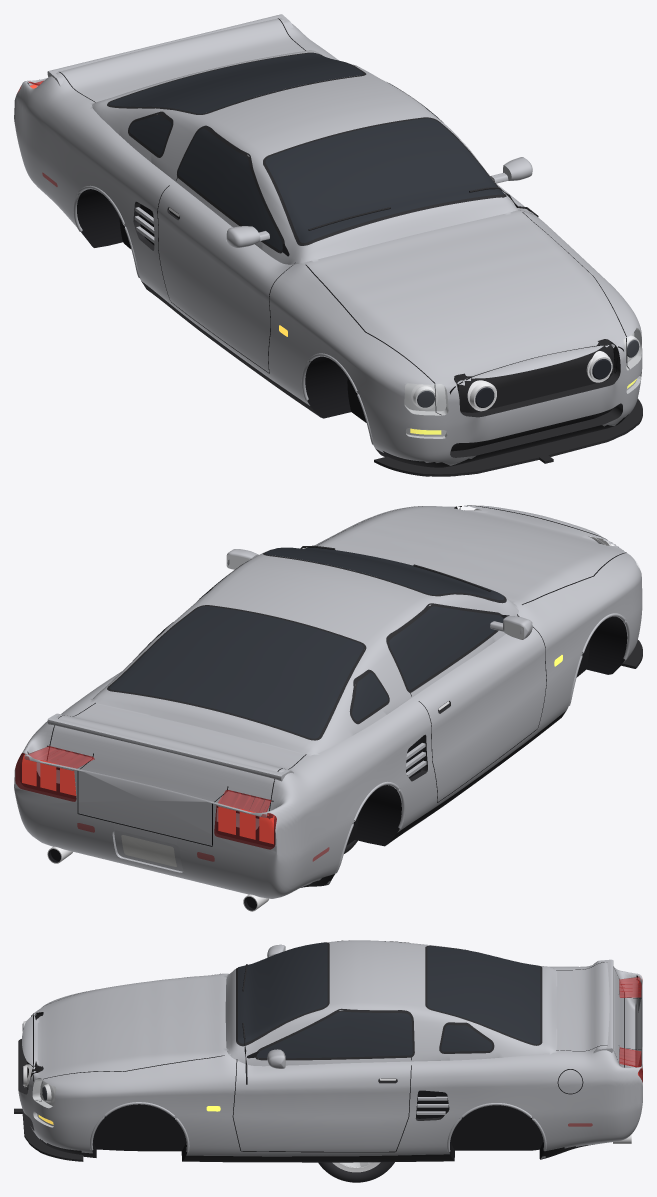
Rendered from stallion.glb.
The picture shows the model from 3 angles, top to bottom: view 1: azimuth 30°, elevation 25°; view 2: azimuth 150°, elevation 25°; view 3: azimuth 270°, elevation 25°; orthographic projection. The views are drawn at different scales.
Visible parts, largest first — view 1: Body; view 2: Body; view 3: Body, TyreR.
Part boxes in pixels (x1,y1,x2,y2): Body: (14, 14, 642, 476); Body: (14, 505, 642, 911); Body: (14, 940, 642, 1162); TyreR: (318, 1162, 394, 1182).
Bounding box in the file's own units: 2.06 × 1.75 × 4.79.
